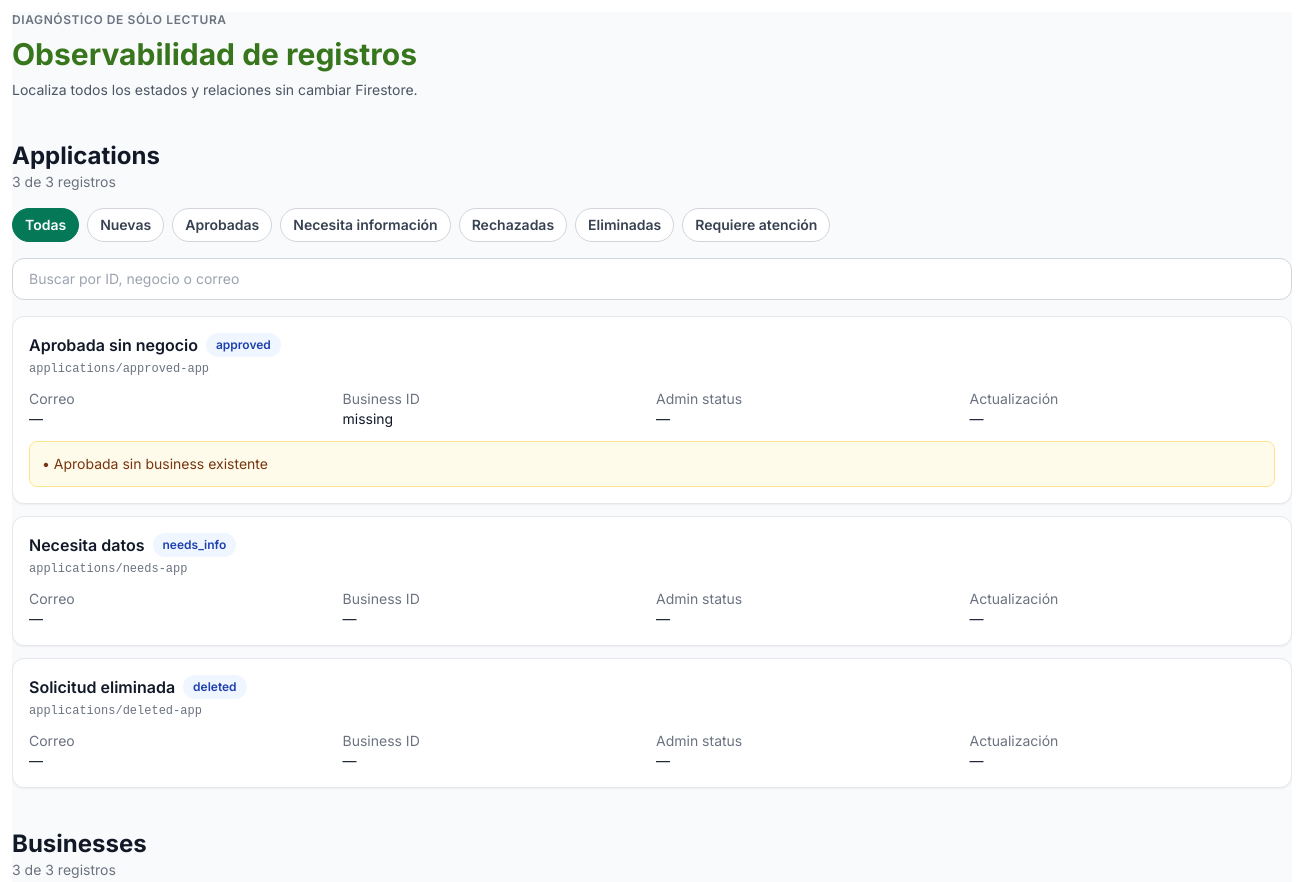
Test: admin records observability › locates approved, needs_info and deleted applications
Click the button "Aprobadas" at (222,225), box [172,208,272,242]
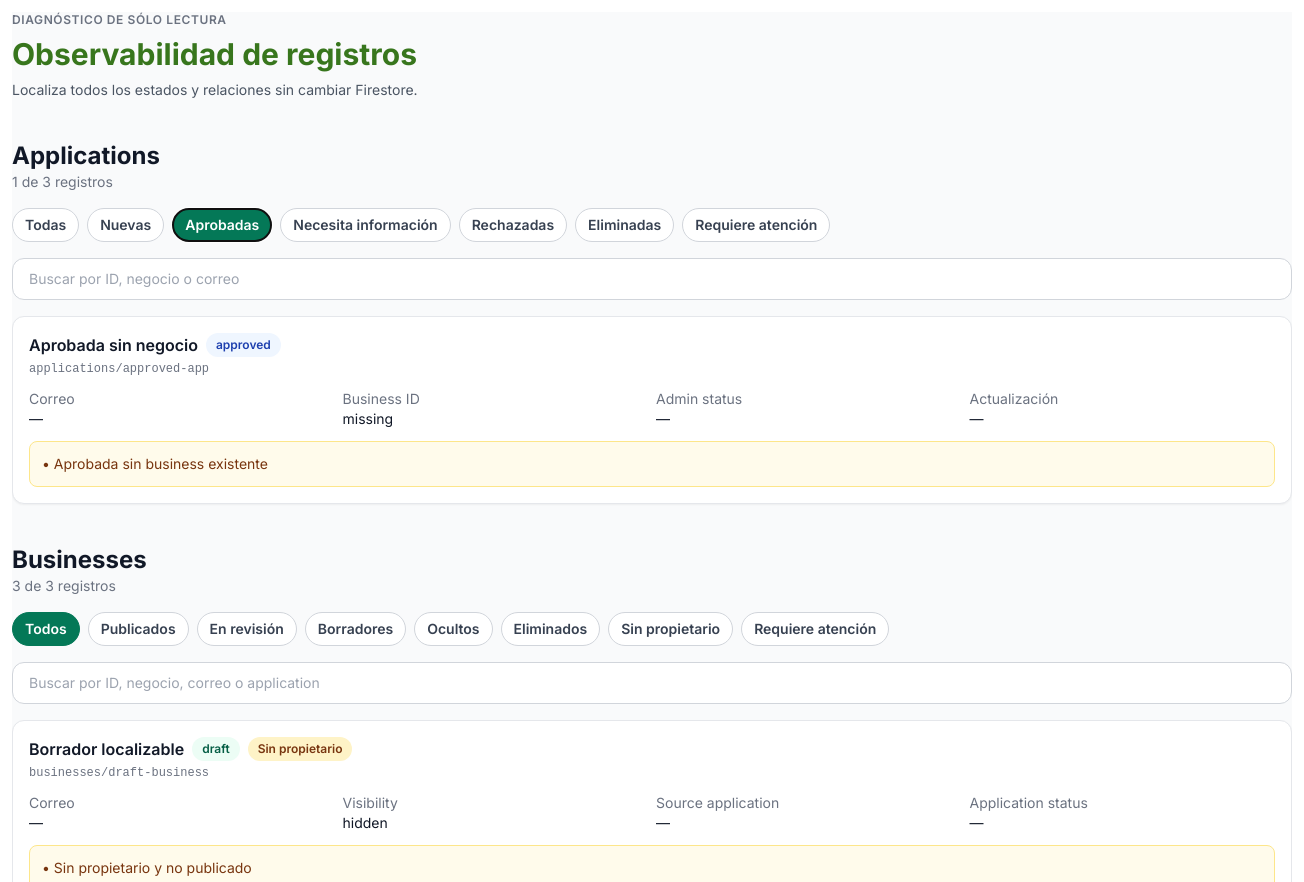
Check: the heading "Aprobada sin negocio" is shown, box [29,333,198,357]
Click the button "Necesita información" at (366,225), box [280,208,451,242]
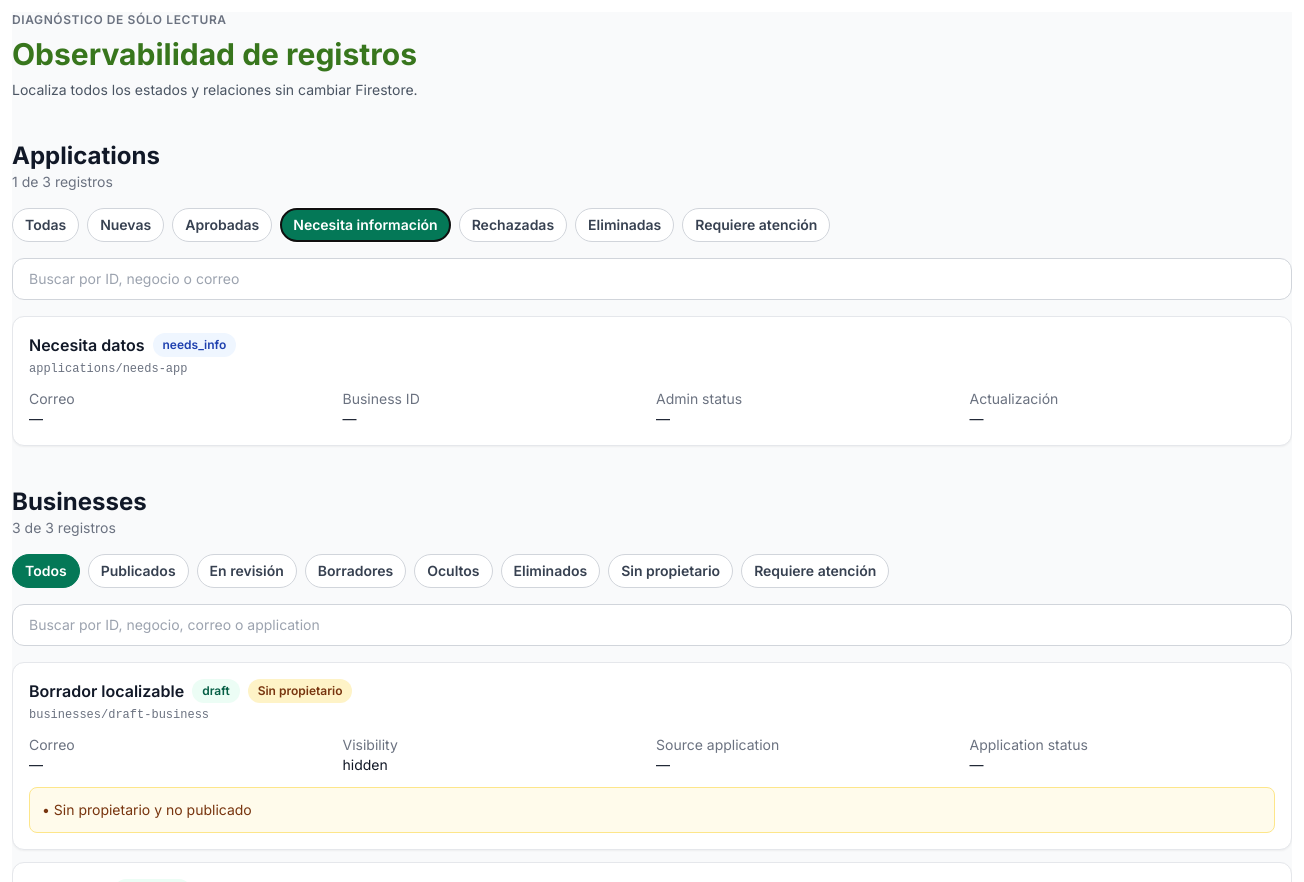
Check: the heading "Necesita datos" is shown, box [29,333,144,357]
Click the button "Eliminadas" at (625,225), box [575,208,674,242]
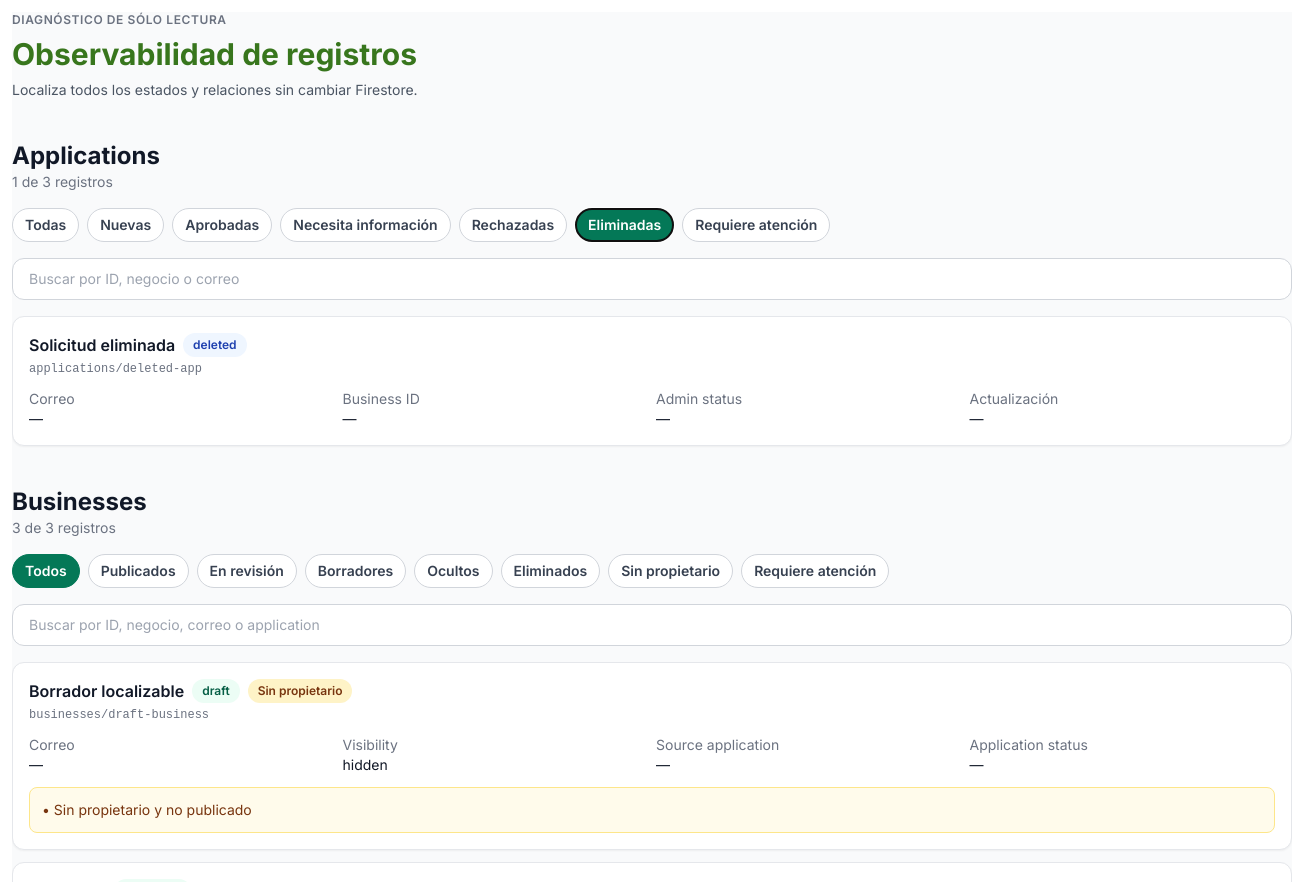
Check: the heading "Solicitud eliminada" is shown, box [29,333,175,357]
